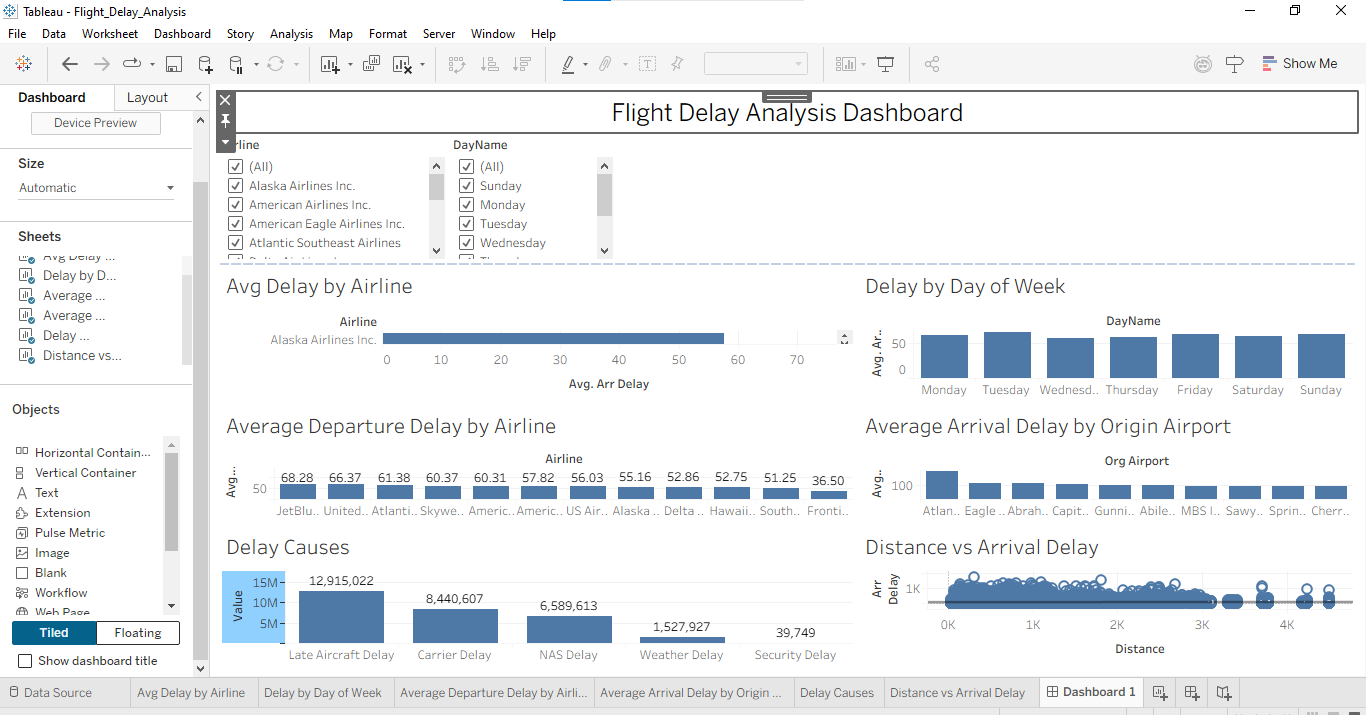

What the dashboard file says about the page in this screenshot:
{"tool":"tableau","page":{"name":"Dashboard 1","canvas":[1000,1000],"units":"permille","ordinal":0},"visuals":[{"type":"title","box":[6.9,13.5,986.1,67.6]},{"type":"filter","title":"Avg Delay by Airline","param":"[federated.17gcmtf1ndmwb915b7gn11kk5rds].[none:Airline:nk]","box":[6.9,81.1,200,221.3]},{"type":"filter","title":"Delay by Day of Week","param":"[federated.17gcmtf1ndmwb915b7gn11kk5rds].[none:Calculation_1024513892765696:nk]","box":[206.9,81.1,145.5,221.3]},{"type":"worksheet","title":"Avg Delay by Airline","mark":"Automatic","rows":["Airline"],"cols":["ArrDelay"],"box":[6.9,302.4,553.2,236.5]},{"type":"worksheet","title":"Delay by Day of Week","mark":"Automatic","rows":["ArrDelay"],"cols":["Calculation_1024513892765696"],"box":[560.1,302.4,433,237.3]},{"type":"worksheet","title":"Average Departure Delay by Airline","mark":"Automatic","rows":["DepDelay"],"cols":["Airline"],"box":[6.9,538.9,553.2,204.3]},{"type":"worksheet","title":"Average Arrival Delay by Origin Airport","mark":"Automatic","rows":["ArrDelay"],"cols":["Org_Airport"],"box":[560.1,539.6,433,203.5]},{"type":"worksheet","title":"Delay Causes","mark":"Automatic","box":[6.9,743.2,553.2,243.3]},{"type":"worksheet","title":"Distance vs Arrival Delay","mark":"Automatic","rows":["ArrDelay"],"cols":["Distance"],"box":[560.1,743.2,433,243.3]}]}

Visuals, with their boxes on the dashboard's canvas, which has no fixed pixel size, in thousandths of its width and height (x1, y1, x2, y2). These are canvas units, not pixel positions in the 1366x715 screenshot, which may show the page scaled, cropped or inside an application window:
title: [7, 14, 993, 81]
"Avg Delay by Airline" filter: [7, 81, 207, 302]
"Delay by Day of Week" filter: [207, 81, 352, 302]
"Avg Delay by Airline" worksheet: [7, 302, 560, 539]
"Delay by Day of Week" worksheet: [560, 302, 993, 540]
"Average Departure Delay by Airline" worksheet: [7, 539, 560, 743]
"Average Arrival Delay by Origin Airport" worksheet: [560, 540, 993, 743]
"Delay Causes" worksheet: [7, 743, 560, 986]
"Distance vs Arrival Delay" worksheet: [560, 743, 993, 986]
